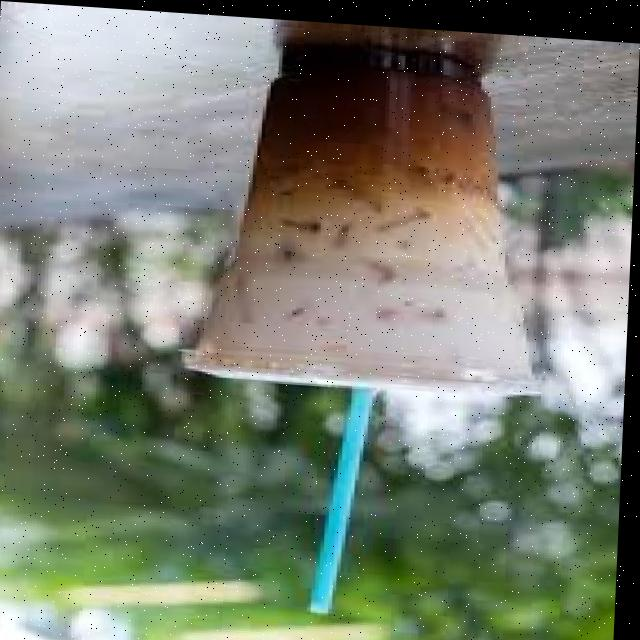cup: (188, 44, 533, 385)
